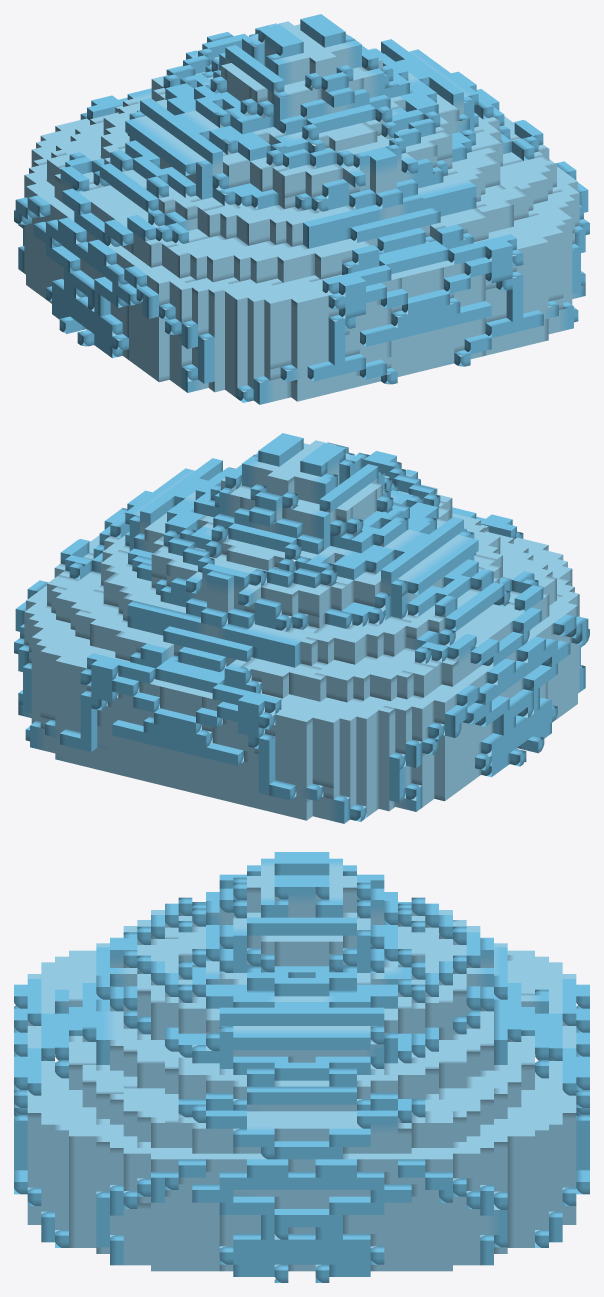
File: Obstaculo_hielo.dae
3 views of the same model, one above another, from view 1: azimuth 30°, elevation 25°; view 2: azimuth 150°, elevation 25°; view 3: azimuth 270°, elevation 25° (orthographic). The views are drawn at different scales.
Visible parts, largest first — view 1: Node-local; view 2: Node-local; view 3: Node-local.
Boxes of the visible parts, x1=… form: Node-local: x1=14, y1=14, x2=589, y2=404; Node-local: x1=14, y1=433, x2=589, y2=823; Node-local: x1=14, y1=852, x2=589, y2=1282.
Size of the model in its own units: 44 by 23 by 42.
1 material, 1 textured.
